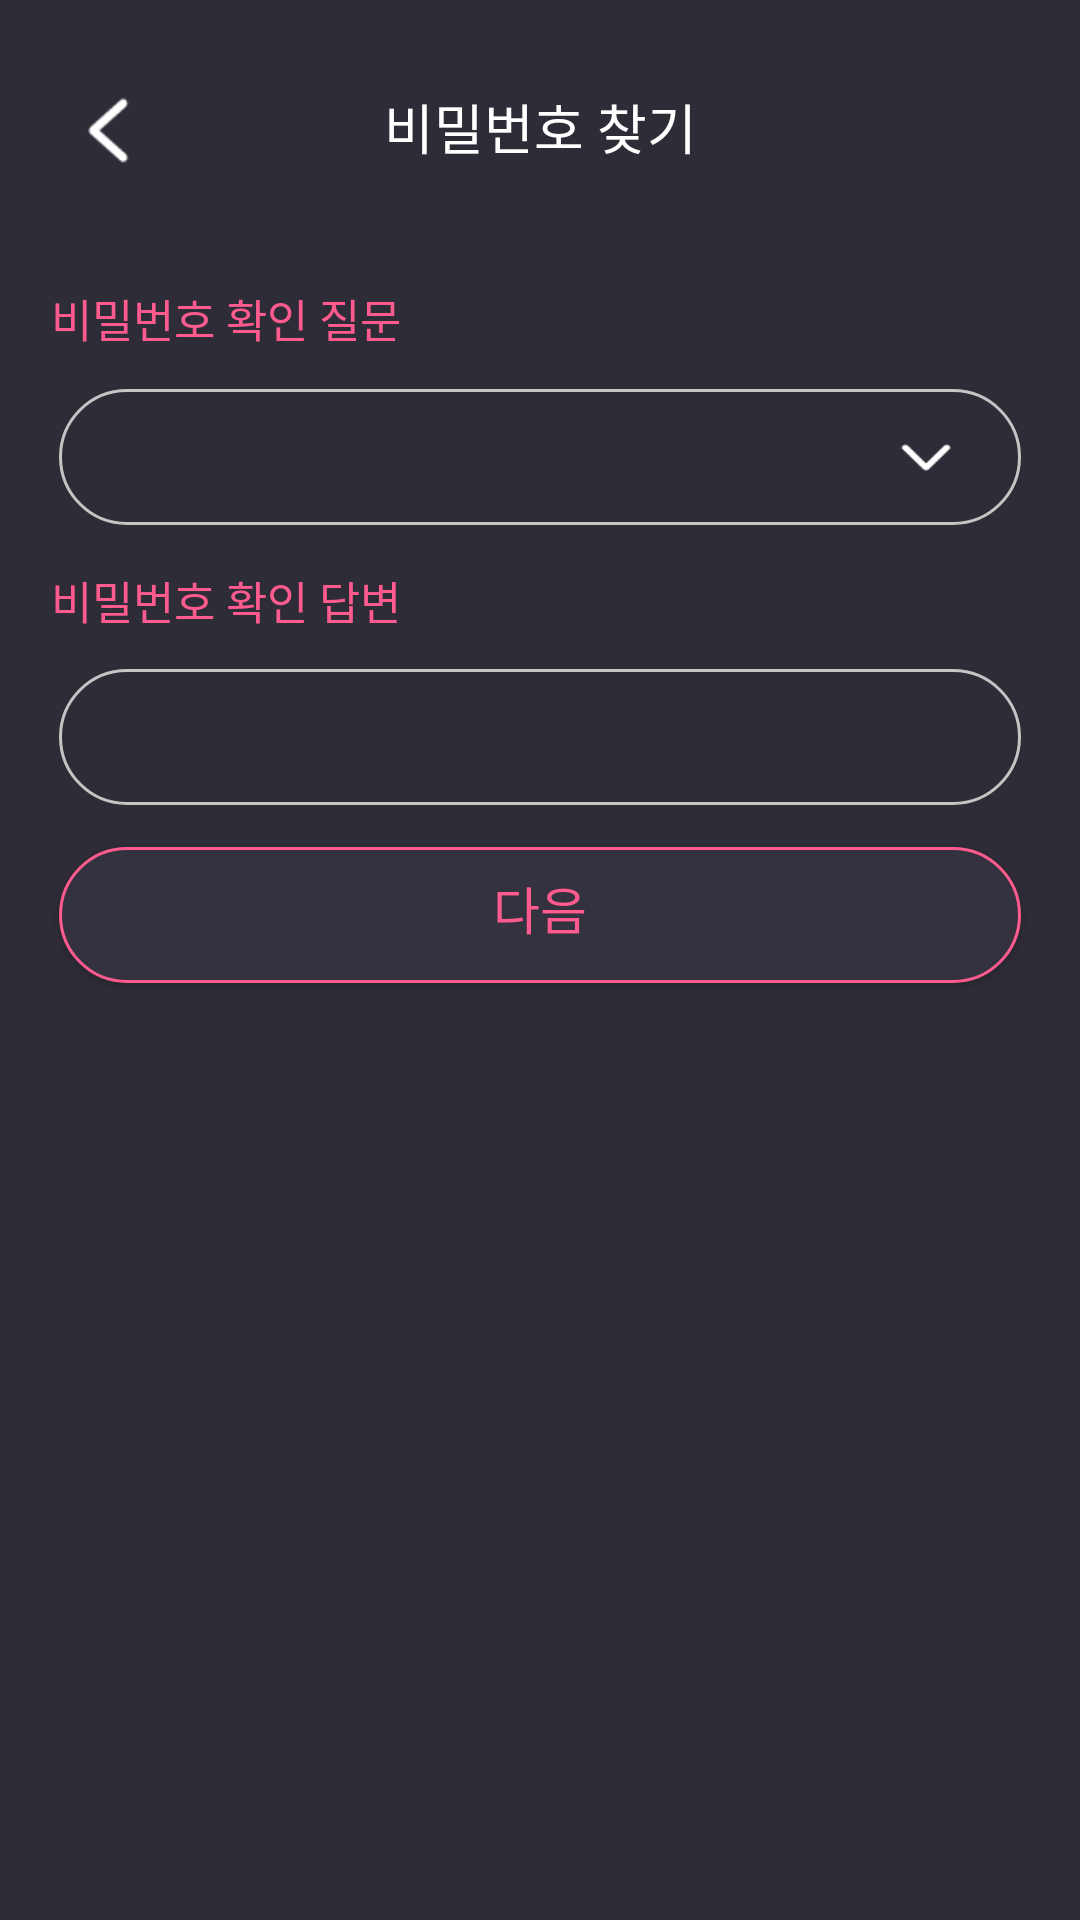

Icon bounding boxes for this 1080×1920 phone screenshot, format (x1, y1, x2, y2):
arrow left resize: (88, 98, 128, 163)
